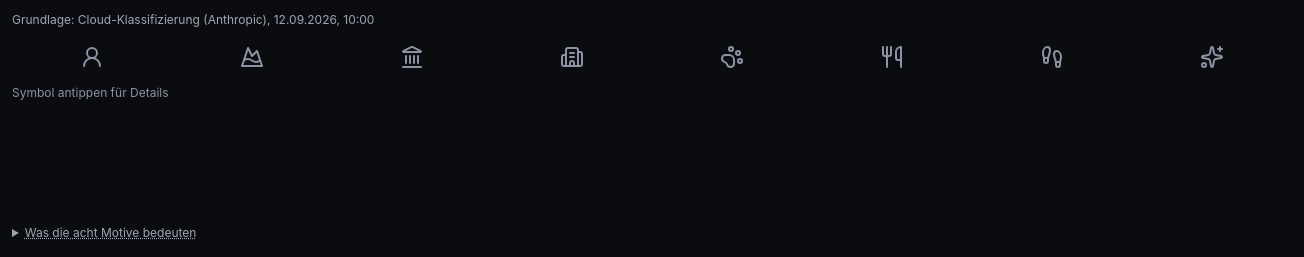
Test: MotifStrengthSection: die Detailzeile › unpins the row again on a second click on the same symbol
The image size is (1304, 257).
Click the button named "Menschen: 0%": (92, 57) [12,41,172,73]
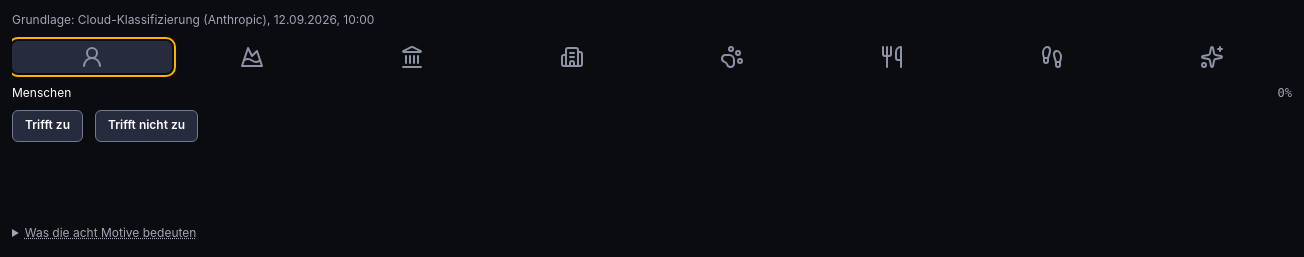
Click the button named "Menschen: 0%": (92, 57) [12,41,172,73]
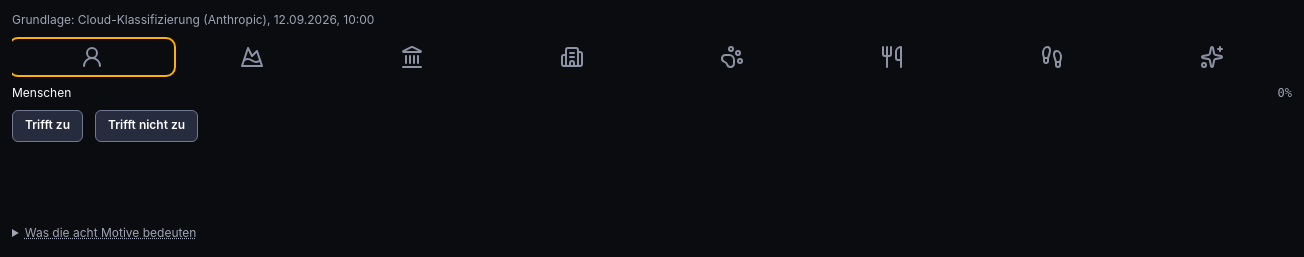
Move the pointer off the button named "Menschen: 0%", box [12,41,172,73]
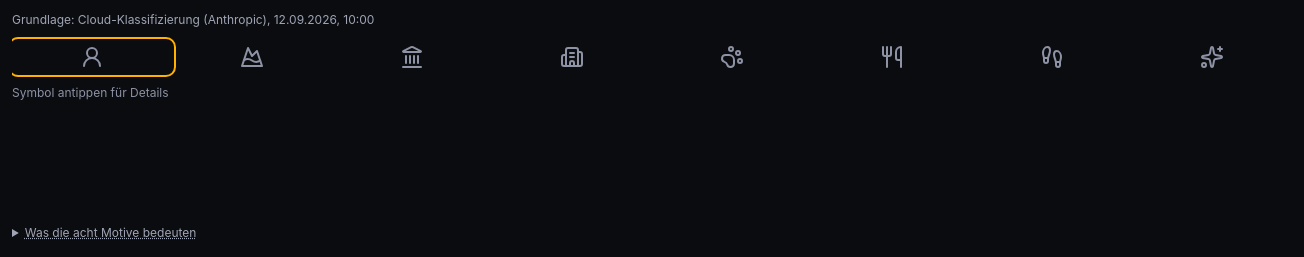
Check: the text "Symbol antippen für Details" is shown, box [12,85,169,100]
